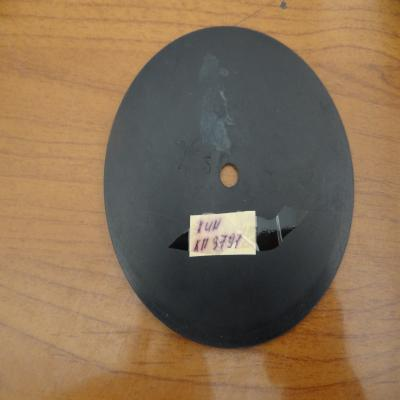other: (102, 26, 355, 351)
